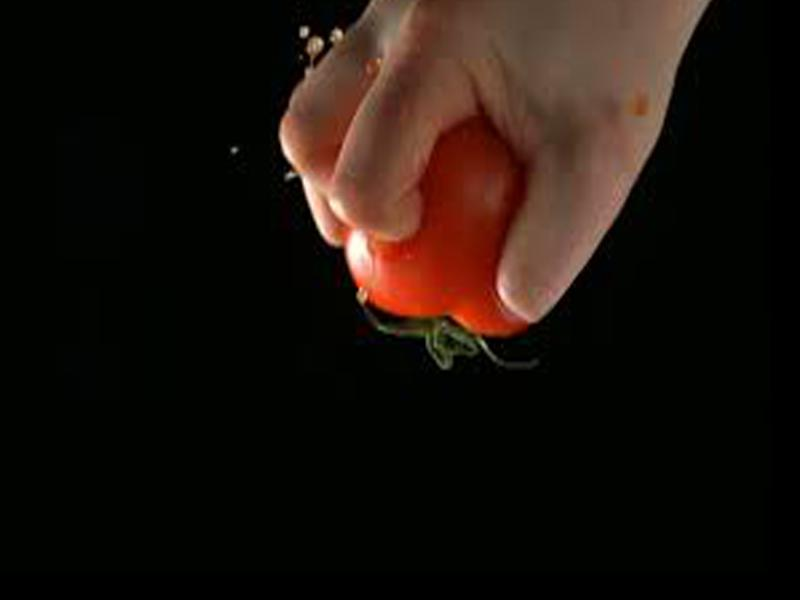Tomato: (345, 118, 530, 336)
